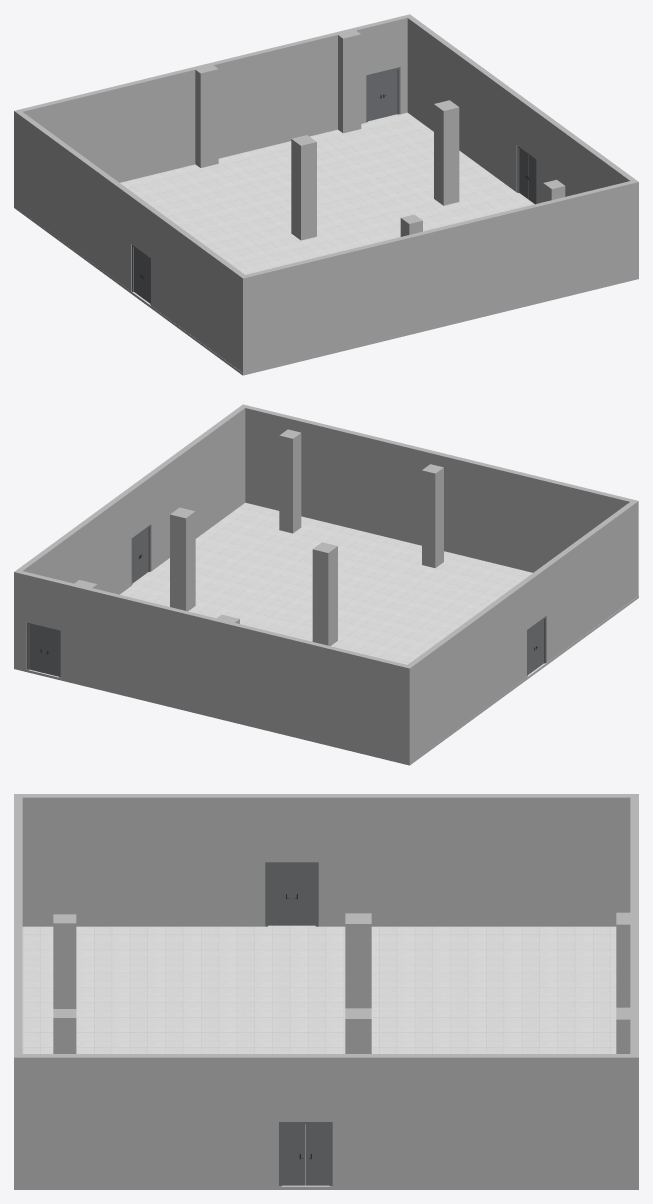
Rendered from floorFourChilder.FBX.
3 renders of one model, top to bottom at view 1: azimuth 30°, elevation 25°; view 2: azimuth 150°, elevation 25°; view 3: azimuth 270°, elevation 25°, orthographic. The views are drawn at different scales.
Parts seen in each view (by area): view 1: Line005, Line004, 对象, Line006, Rectangle271, Rectangle273, Rectangle274, Rectangle275, Line051, Rectangle255, Rectangle256, Rectangle269 (+2 smaller); view 2: Line005, Line004, 对象, Line006, Rectangle271, Rectangle273, Rectangle272, Rectangle270, Line051, Rectangle255, Rectangle256, Rectangle269 (+2 smaller); view 3: 对象, Line005, Line004, Line006, Rectangle269, Rectangle256, Rectangle271, Line051, Rectangle270, Rectangle257, Rectangle258, Rectangle263 (+7 smaller).
Part boxes in pixels (box(x1,y1,x2,y2)): Line005: box(151, 111, 638, 373); Line004: box(14, 26, 366, 291); 对象: box(120, 112, 534, 372); Line006: box(397, 14, 521, 192); Rectangle271: box(291, 135, 316, 240); Rectangle273: box(434, 100, 459, 205); Rectangle274: box(338, 30, 361, 133); Rectangle275: box(195, 65, 218, 167); Line051: box(14, 206, 638, 375); Rectangle255: box(363, 17, 400, 75); Rectangle256: box(516, 96, 541, 158); Rectangle269: box(131, 195, 155, 257); Line005: box(146, 404, 638, 662); Line004: box(60, 581, 526, 763); 对象: box(27, 502, 637, 677); Line006: box(14, 490, 131, 669); Rectangle271: box(312, 542, 337, 645); Rectangle273: box(170, 507, 195, 611); Rectangle272: box(279, 429, 301, 533); Rectangle270: box(422, 464, 443, 568); Line051: box(14, 596, 638, 765); Rectangle255: box(26, 573, 63, 630); Rectangle256: box(126, 475, 151, 537); Rectangle269: box(522, 567, 546, 629); 对象: box(22, 925, 616, 1186); Line005: box(14, 794, 278, 1186); Line004: box(318, 794, 638, 1026); Line006: box(332, 1049, 638, 1186); Rectangle269: box(265, 794, 318, 862); Rectangle256: box(279, 1054, 332, 1121); Rectangle271: box(345, 913, 371, 1008); Line051: box(14, 1186, 638, 1189); Rectangle270: box(53, 914, 76, 1008); Rectangle257: box(306, 1124, 329, 1185); Rectangle258: box(282, 1124, 305, 1185); Rectangle263: box(292, 864, 315, 925).
Bounding box in the file's own units: 17509 × 4100 × 17541.
Materials: 4 (1 with a texture image).
